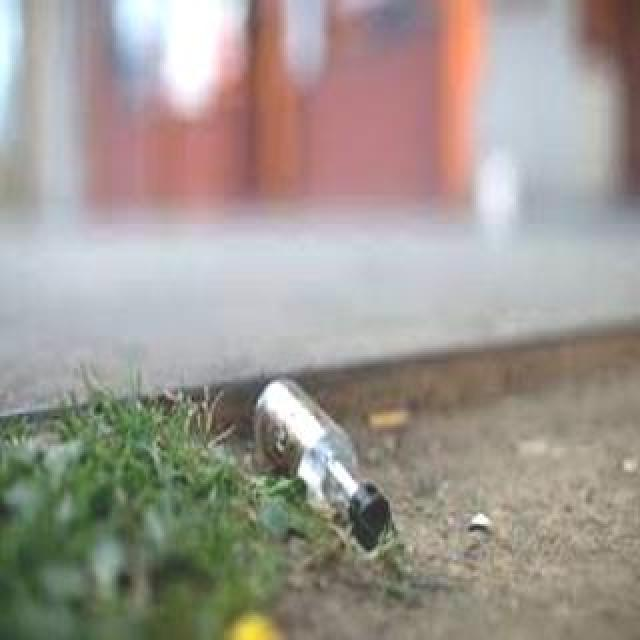Pet_Bottle: (252, 363, 392, 547)
